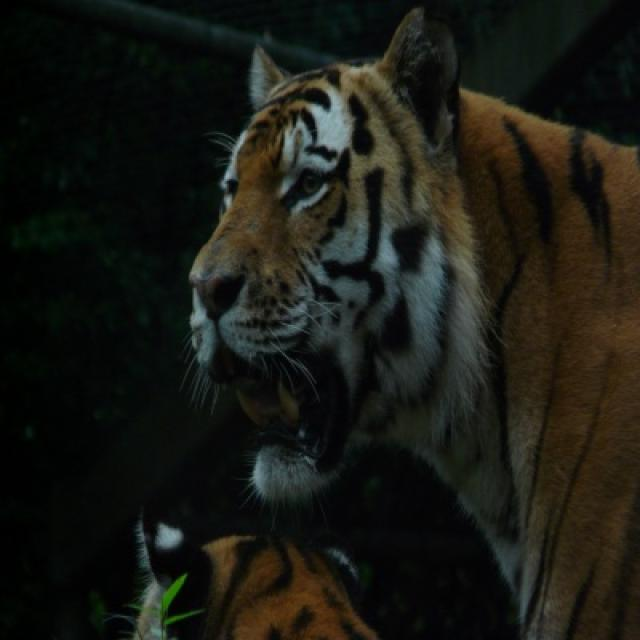Tiger: (191, 3, 638, 638)
